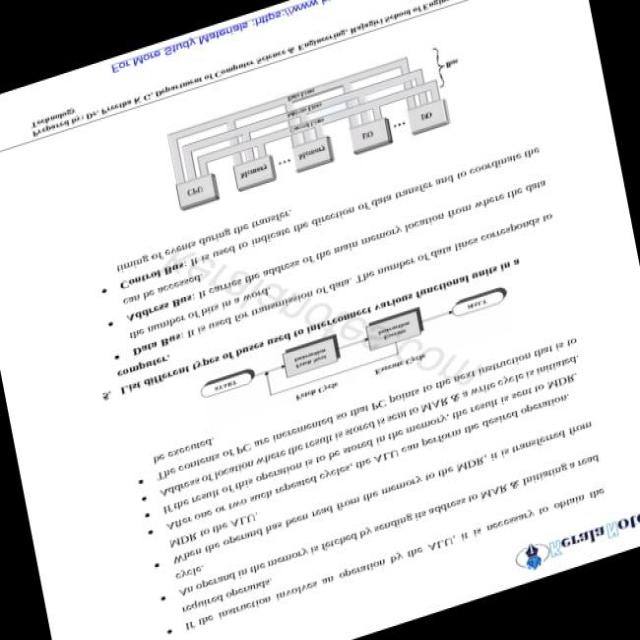Figure Detection - v3 Dataset Version2: (146, 18, 482, 230), (190, 276, 527, 438)
